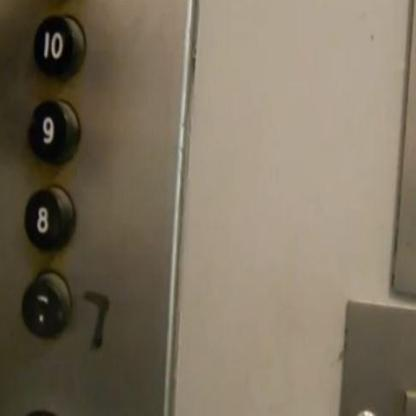10: (31, 12, 87, 81)
8: (23, 182, 76, 253)
9: (26, 94, 82, 166)
blur: (20, 269, 73, 339)
